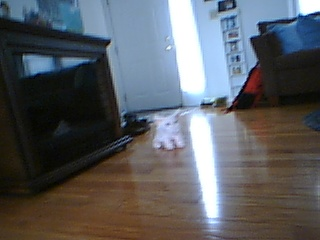piggy: (150, 107, 187, 152)
